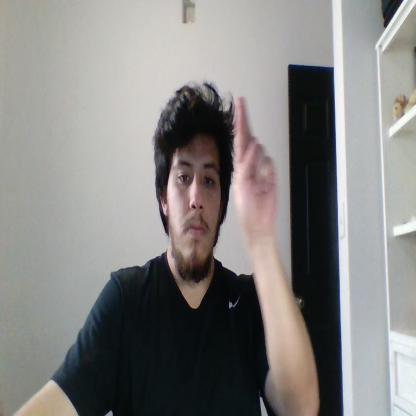R: (236, 98, 278, 240)
